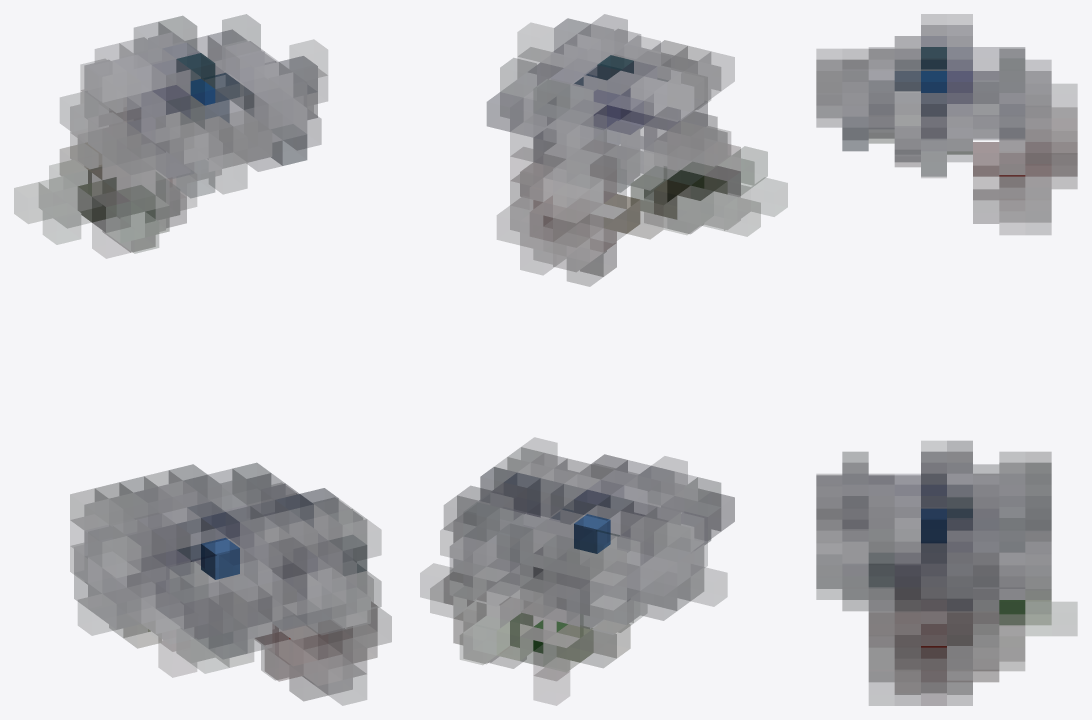
File: iter_10.obj
The picture shows the model from 3 angles, left to right: view 1: azimuth 30°, elevation 25°; view 2: azimuth 150°, elevation 25°; view 3: azimuth 270°, elevation 25°; orthographic projection. The views are drawn at different scales.
Parts seen in each view (by area): view 1: iter_10; view 2: iter_10; view 3: iter_10.
Boxes of the visible parts, x1,y1,x2,y2 form: iter_10: (14, 14, 391, 705); iter_10: (420, 14, 787, 705); iter_10: (816, 14, 1077, 705).
Bounding box in the file's own units: 1.4 × 2.5 × 1.
